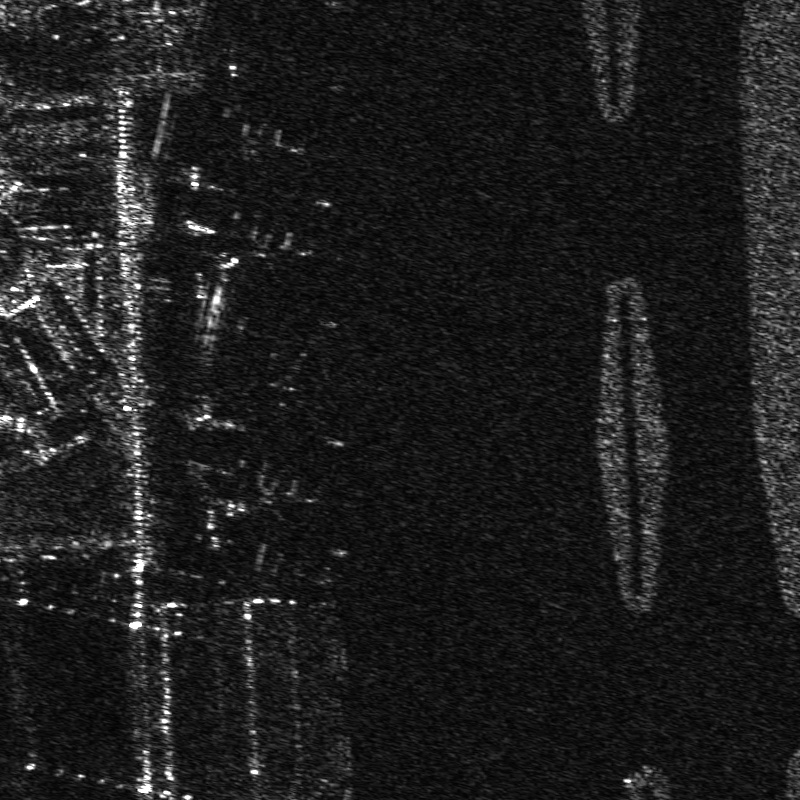A220: (221, 223, 319, 288), (228, 465, 321, 531)
